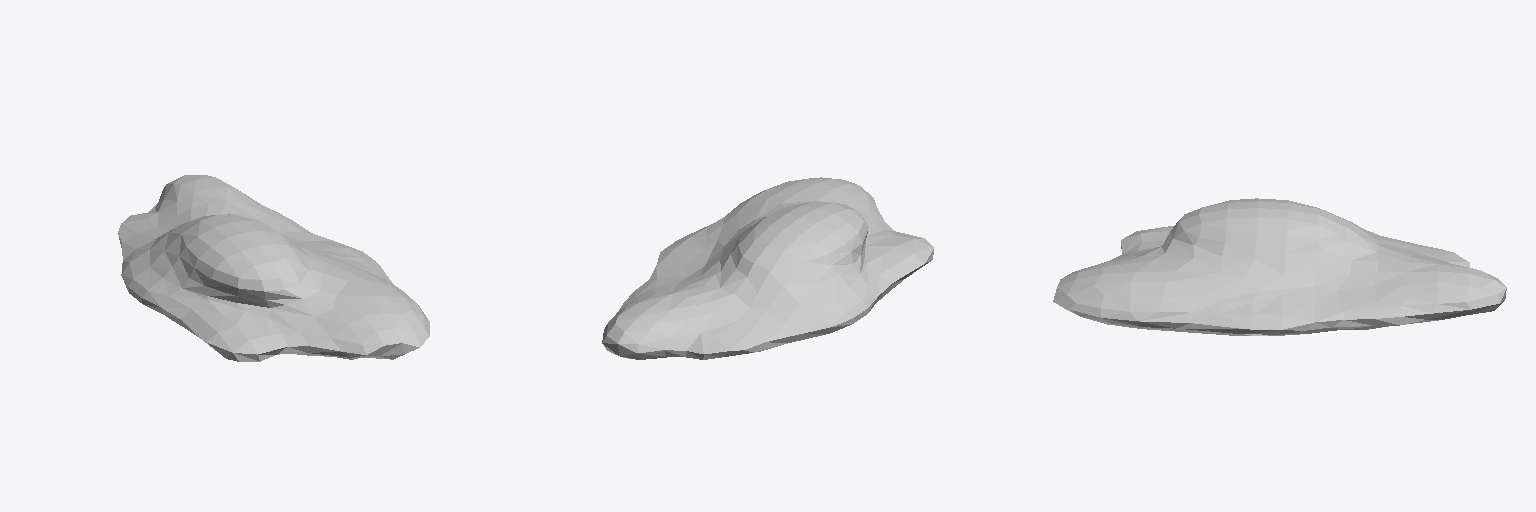
File: snow_tepe_01.obj
The picture shows the model from 3 angles: view 1: azimuth 30°, elevation 25°; view 2: azimuth 150°, elevation 25°; view 3: azimuth 270°, elevation 25°; orthographic projection.
Parts seen in each view (by area): view 1: Snow_Env2_0; view 2: Snow_Env2_0; view 3: Snow_Env2_0.
Boxes of the visible parts, x1=… form: Snow_Env2_0: x1=118, y1=175, x2=429, y2=361; Snow_Env2_0: x1=602, y1=177, x2=933, y2=359; Snow_Env2_0: x1=1053, y1=198, x2=1506, y2=335.
Bounding box in the file's own units: 19.81 × 6.51 × 36.32.